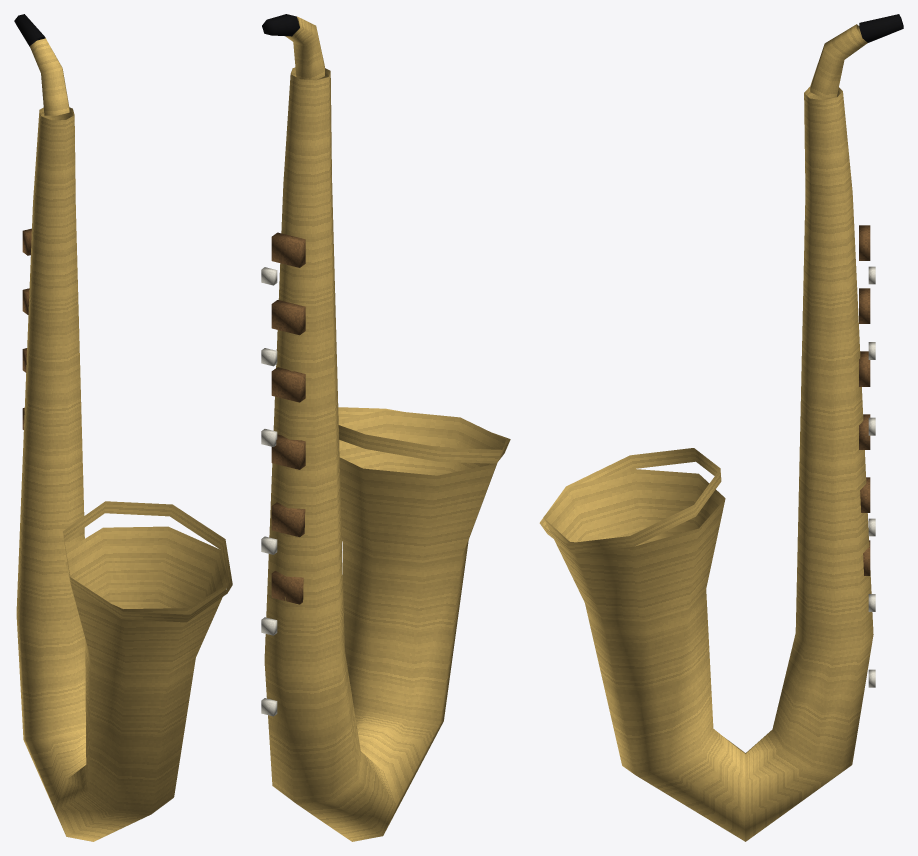
Rendered from tenor_sax_2.glb.
3 renders of one model, left to right at view 1: azimuth 30°, elevation 25°; view 2: azimuth 150°, elevation 25°; view 3: azimuth 270°, elevation 25°, orthographic. The views are drawn at different scales.
Visible parts, largest first — view 1: tenor_sax_2; view 2: tenor_sax_2; view 3: tenor_sax_2.
Boxes of the visible parts, x1=… form: tenor_sax_2: x1=14, y1=14, x2=232, y2=841; tenor_sax_2: x1=261, y1=14, x2=510, y2=841; tenor_sax_2: x1=539, y1=14, x2=903, y2=841.
Size of the model in its own units: 0.1716 by 0.8182 by 0.3274.
4 materials, 4 textured.
